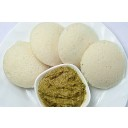idly: (84, 42, 124, 86), (5, 42, 39, 89), (30, 23, 67, 66), (62, 23, 97, 66)
